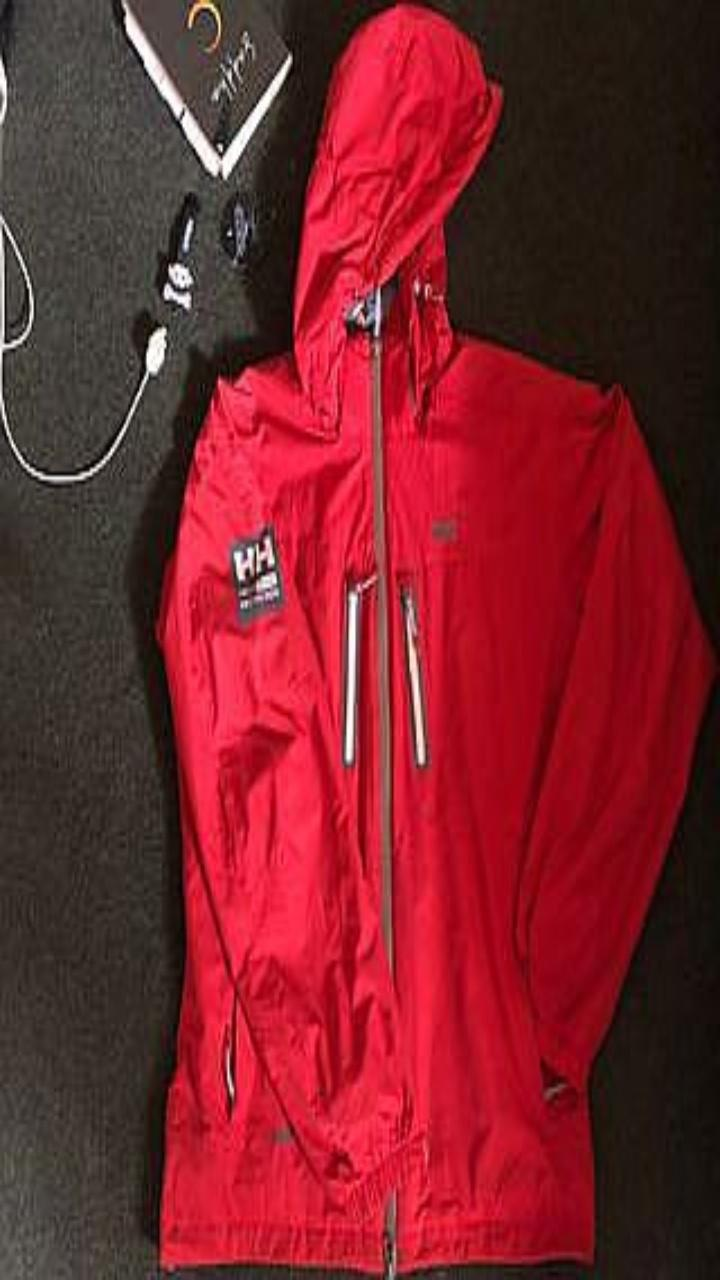Sports_Jacket: (156, 5, 717, 1274)
